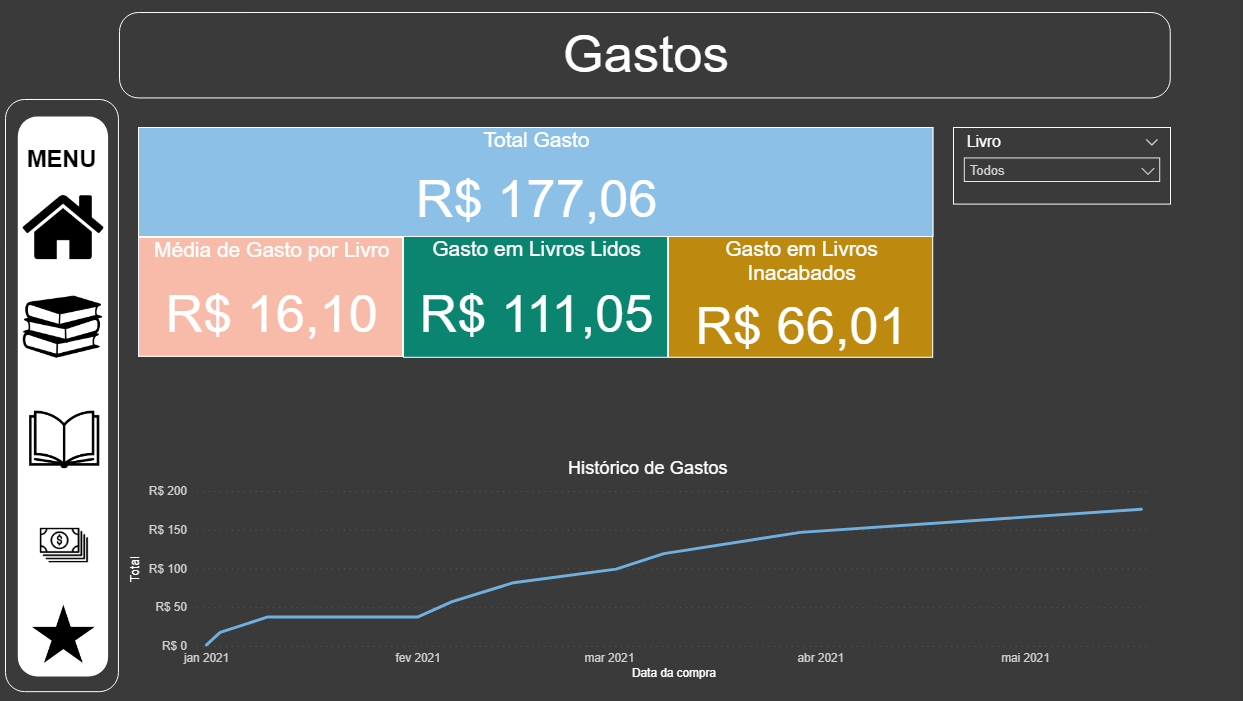

What the dashboard file says about the page in this screenshot:
{"tool":"powerbi","page":{"name":"Gastos","canvas":[1280,720],"ordinal":3},"visuals":[{"type":"basicShape","title":"Menu","box":[11.4,108.3,116.3,604.1],"z":0},{"type":"textbox","box":[21.7,149.3,94.6,66.1],"z":1000},{"type":"image","box":[22.8,410.3,96.9,87.8],"z":2000},{"type":"image","box":[5.7,610.9,127.7,83.2],"z":3000},{"type":"image","box":[19.4,294.1,100.3,91.2],"z":4000},{"type":"image","box":[16,192.6,107.1,92.3],"z":5000},{"type":"image","box":[6.8,508.4,126.5,108.3],"z":6000},{"type":"textbox","box":[127.8,19.4,1071.2,87.8],"z":7000},{"type":"lineChart","title":"Histórico de Gastos","fields":{"Y":["Books Info.Total acumulado de Gastos"],"Category":["Books Info.Início leitura"]},"box":[133.6,472.2,1064.8,231.5],"z":8000},{"type":"card","title":"Total Gasto","fields":{"Values":["Sum(Books Info.Preço (R$))"]},"box":[146.6,136.5,809.5,112],"z":9000},{"type":"card","title":"Gasto em Livros Lidos","fields":{"Values":["Sum(Books Info.Preço (R$))"]},"box":[416.5,247.4,269.8,124.2],"z":10000},{"type":"card","title":"Gasto em Livros Inacabados","fields":{"Values":["Sum(Books Info.Preço (R$))"]},"box":[686.3,247.4,269.8,124.2],"z":11000},{"type":"card","title":"Média de Gasto por Livro","fields":{"Values":["Avg(Books Info.Preço (R$))"]},"box":[146.9,248.9,270.3,122.4],"z":12000},{"type":"slicer","fields":{"Values":["Books Info.Livro"]},"box":[976.1,136.7,222.3,78.5],"z":13000}]}

Visuals, with their boxes in screenshot pixels (x1, y1, x2, y2), scaled from the page's 1280x720 canvas onto the 1243x701 screenshot:
"Menu" basicShape: bbox=[11, 105, 124, 694]
textbox: bbox=[21, 145, 113, 210]
image: bbox=[22, 399, 116, 485]
image: bbox=[6, 595, 130, 676]
image: bbox=[19, 286, 116, 375]
image: bbox=[16, 188, 120, 277]
image: bbox=[7, 495, 129, 600]
textbox: bbox=[124, 19, 1164, 104]
"Histórico de Gastos" lineChart: bbox=[130, 460, 1164, 685]
"Total Gasto" card: bbox=[142, 133, 928, 242]
"Gasto em Livros Lidos" card: bbox=[404, 241, 666, 362]
"Gasto em Livros Inacabados" card: bbox=[666, 241, 928, 362]
"Média de Gasto por Livro" card: bbox=[143, 242, 405, 362]
slicer - Books Info.Livro: bbox=[948, 133, 1164, 210]
